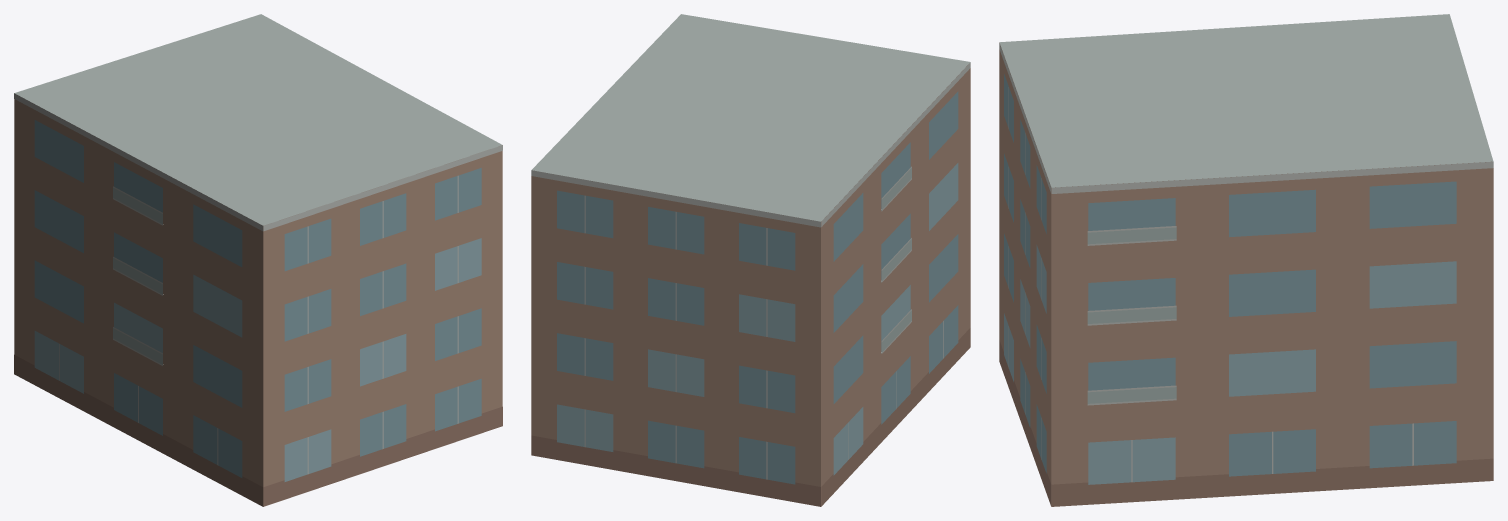
Rendered from survey-upis-33012863.glb.
3 views of the same model, side by side, from view 1: azimuth 30°, elevation 25°; view 2: azimuth 150°, elevation 25°; view 3: azimuth 270°, elevation 25° (orthographic). The views are drawn at different scales.
Parts seen in each view (by area): view 1: survey-upis-33012863.tmp; view 2: survey-upis-33012863.tmp; view 3: survey-upis-33012863.tmp.
Boxes of the visible parts, x1,y1,x2,y2 form: survey-upis-33012863.tmp: (14,14,502,506); survey-upis-33012863.tmp: (531,14,970,506); survey-upis-33012863.tmp: (999,14,1493,506).
Bounding box in the file's own units: 14.01 × 12 × 16.85.
